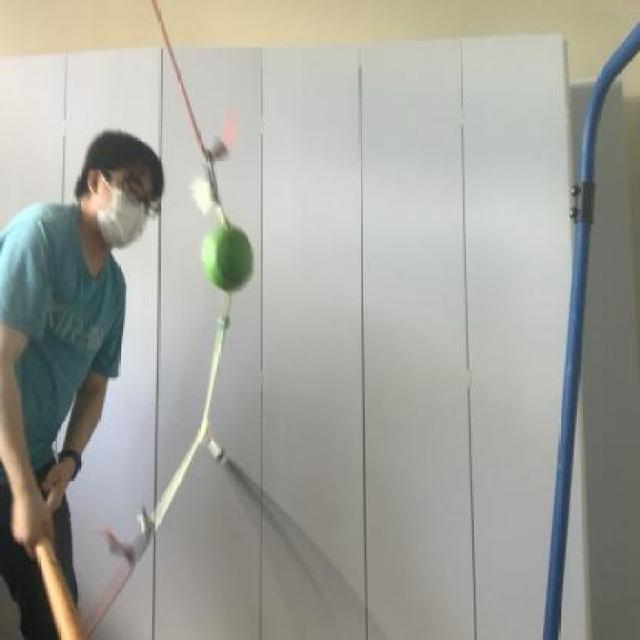baseball: (198, 215, 262, 300)
